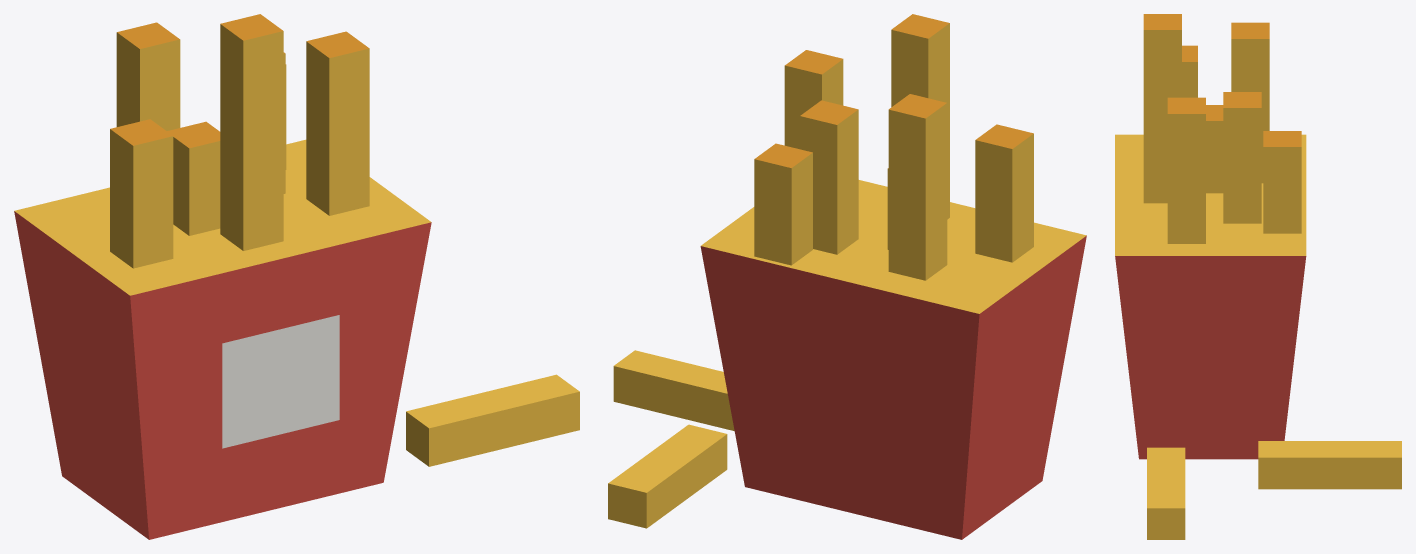
Rendered from J_FriesBox.fbx.
3 views of the same model, side by side, from view 1: azimuth 30°, elevation 25°; view 2: azimuth 150°, elevation 25°; view 3: azimuth 270°, elevation 25° (orthographic). The views are drawn at different scales.
Visible parts, largest first — view 1: J_FriesBox; view 2: J_FriesBox; view 3: J_FriesBox.
Boxes of the visible parts, <box> form: J_FriesBox: <box>14,14,579,539</box>; J_FriesBox: <box>608,14,1086,539</box>; J_FriesBox: <box>1115,14,1401,539</box>.
Size of the model in its own units: 0.56 by 0.54 by 0.36.
